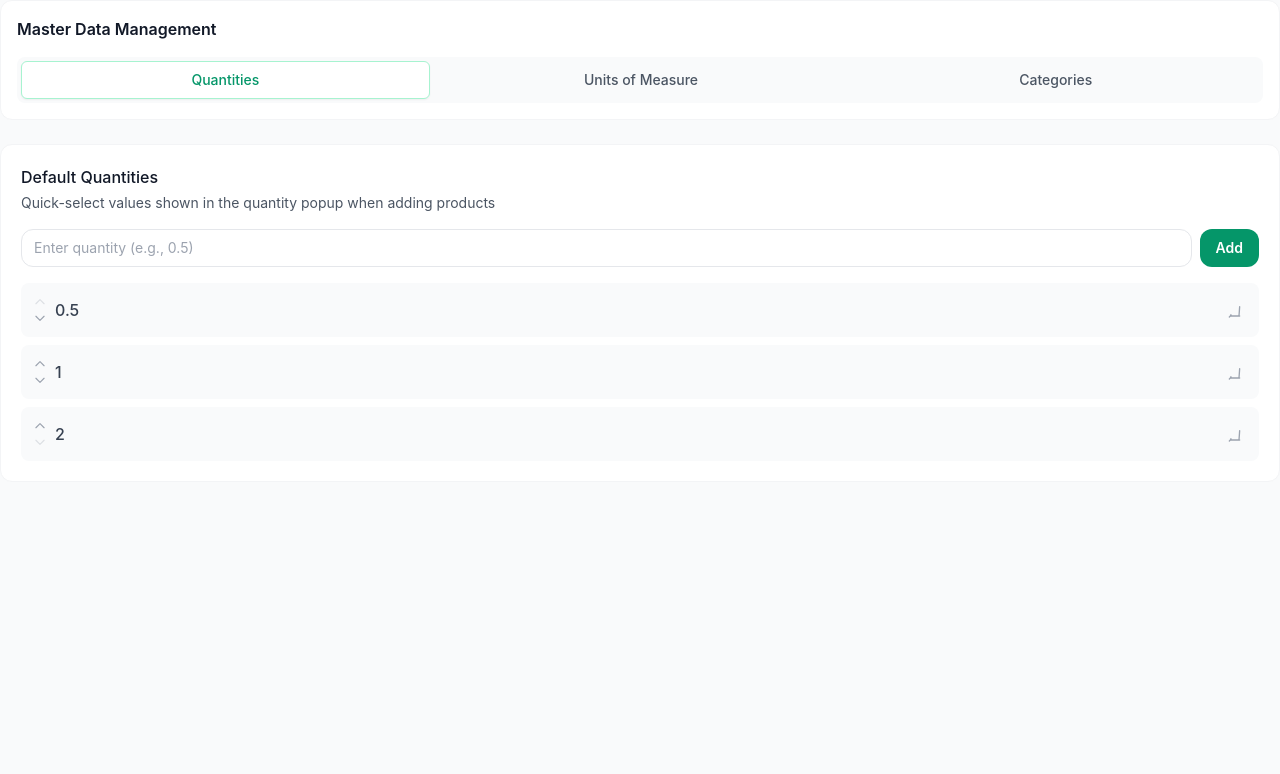
Test: MasterDataTab › Units of Measure Section › should validate unit abbreviation uniqueness
This screenshot has width=1280, height=774.
Click the button "Units of Measure" at (641, 80), box [438,61,844,99]
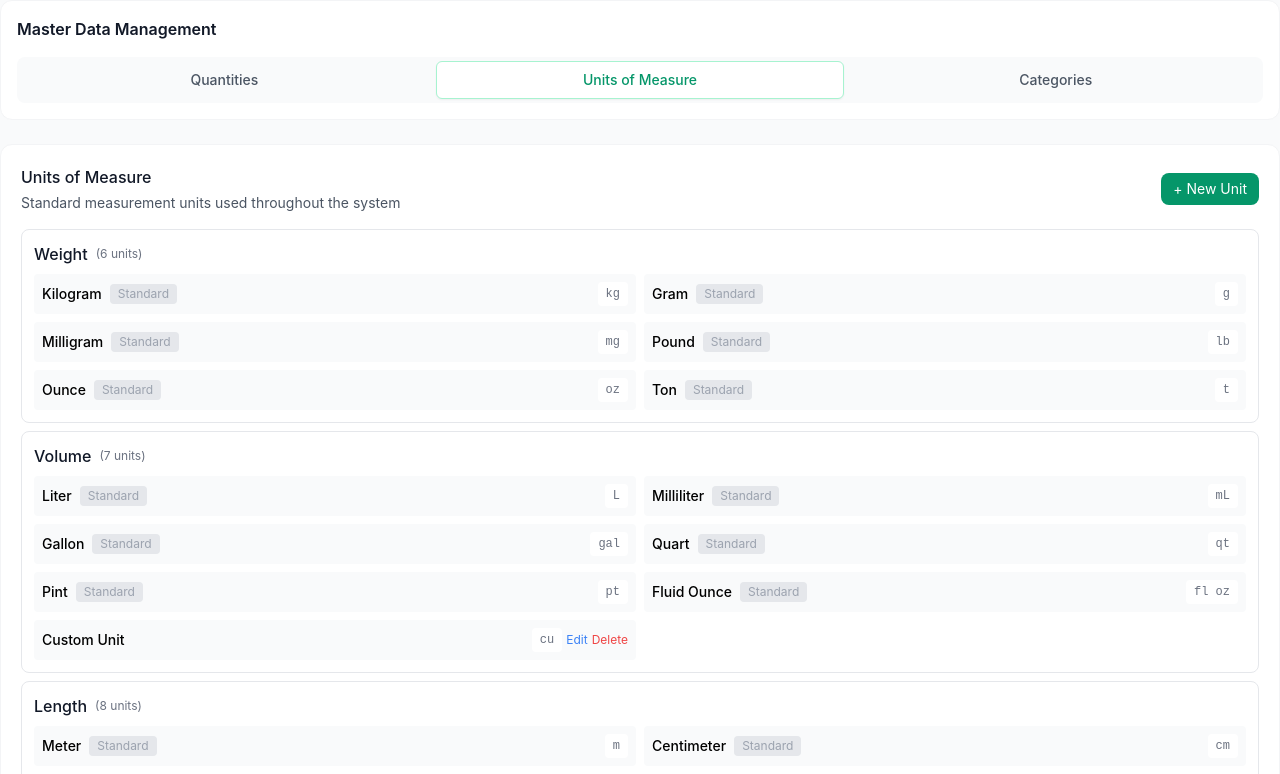
Click the button "+ New Unit" at (1210, 189), box [1161,173,1259,205]
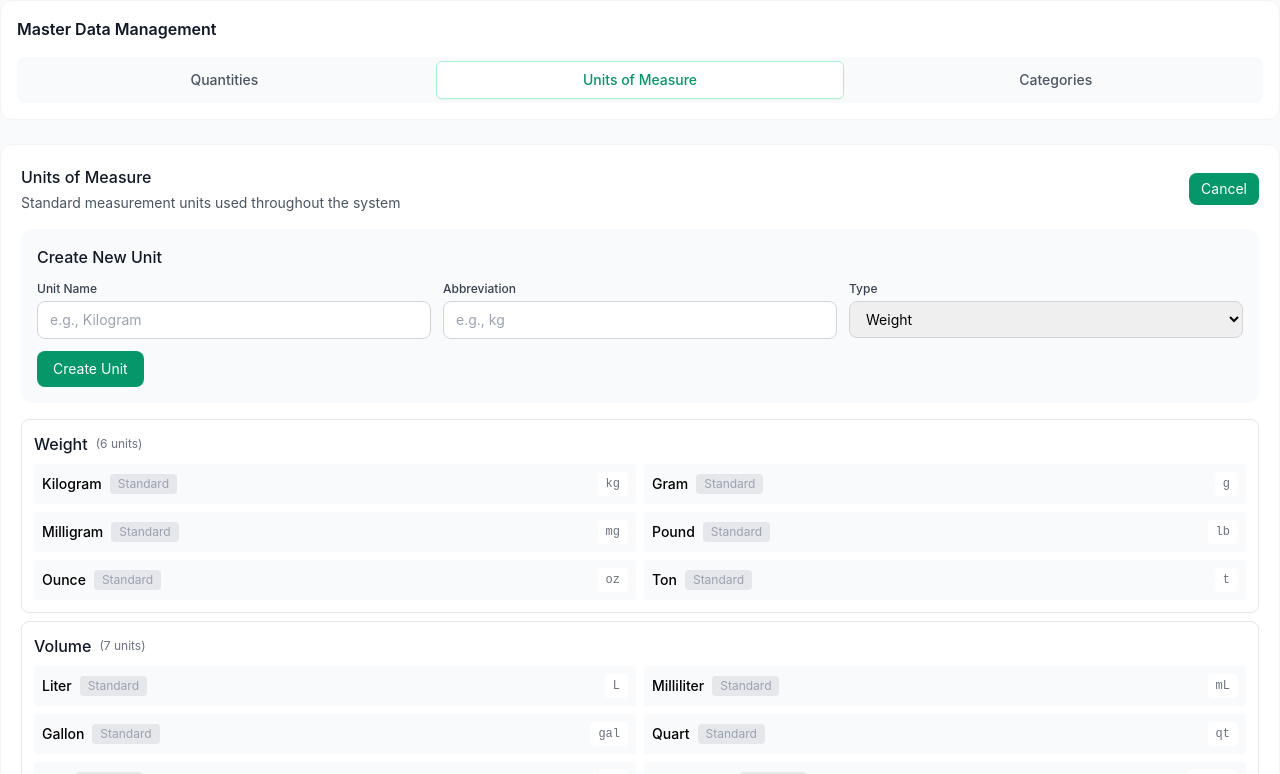
Type "Test Unit" into the field with placeholder "e.g., Kilogram" at (234, 320), box [37,301,431,339]
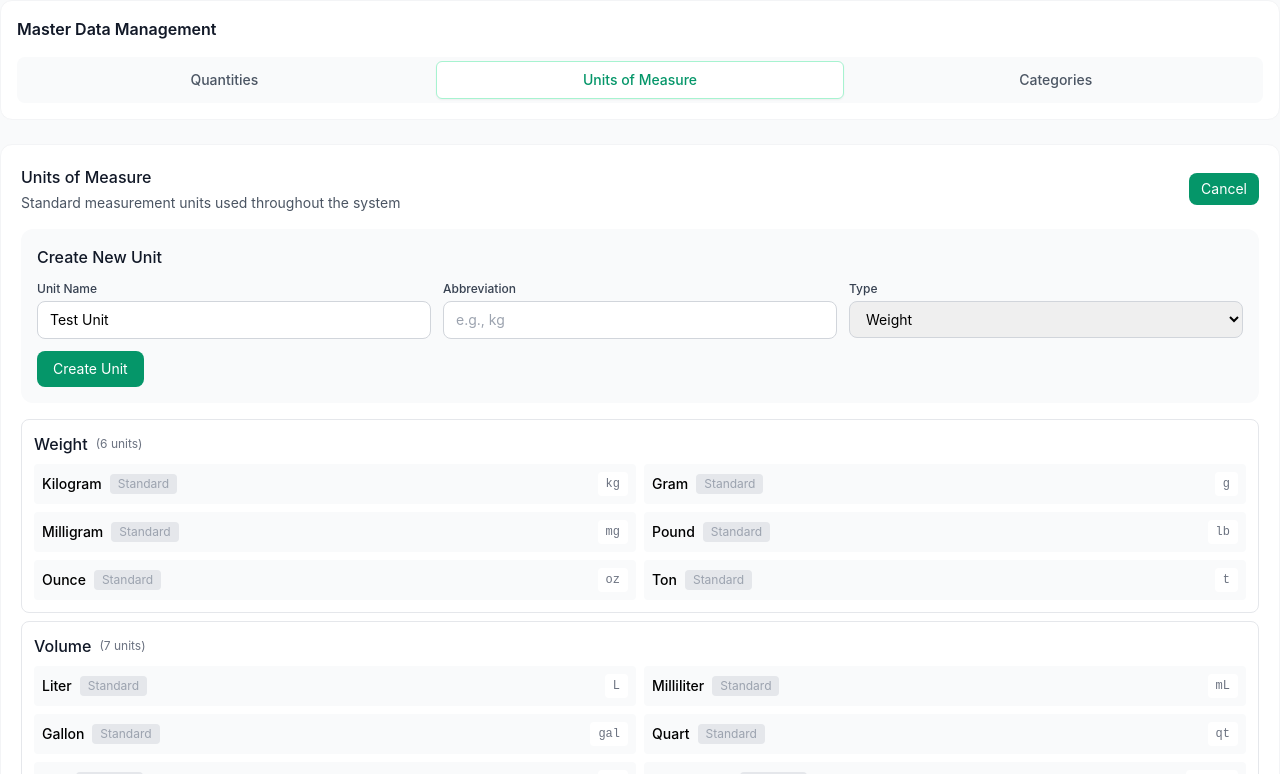
Type "kg" into the field with placeholder "e.g., kg" at (640, 320), box [443,301,837,339]
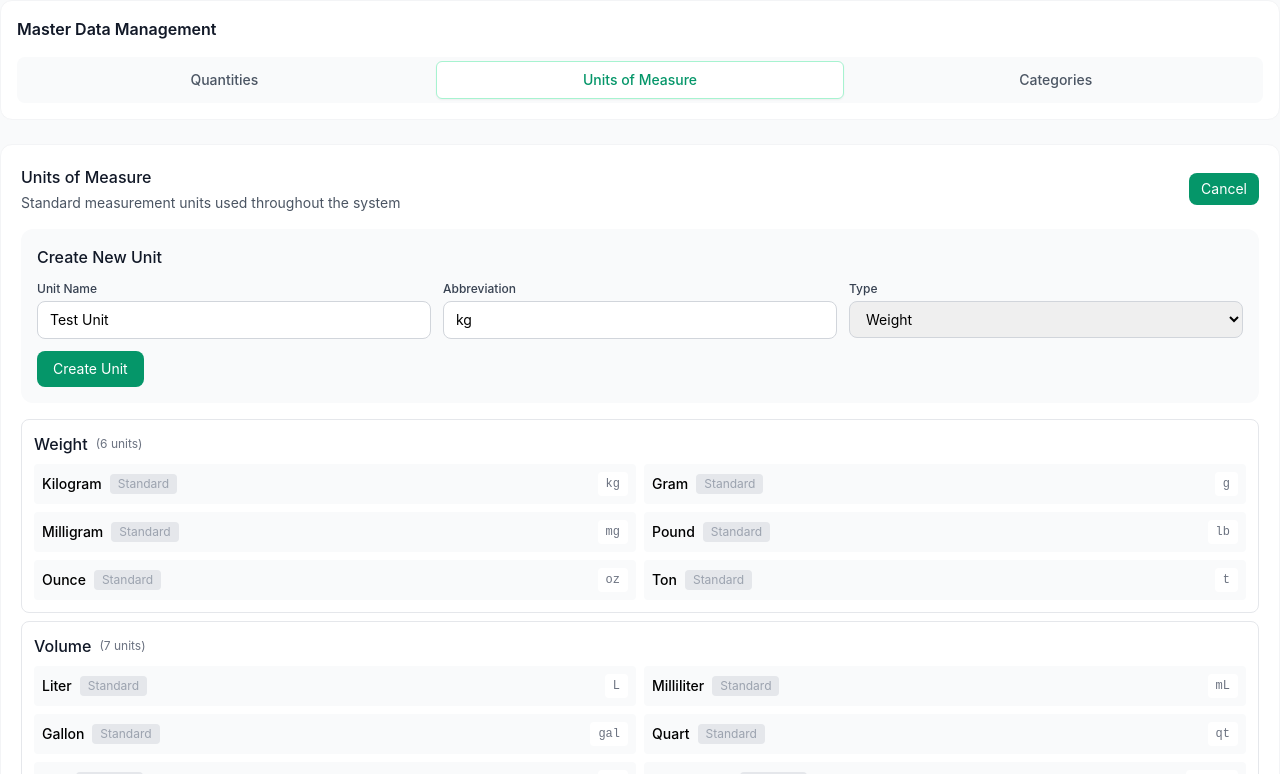
Click the button "Create Unit" at (90, 369), box [37,351,144,387]
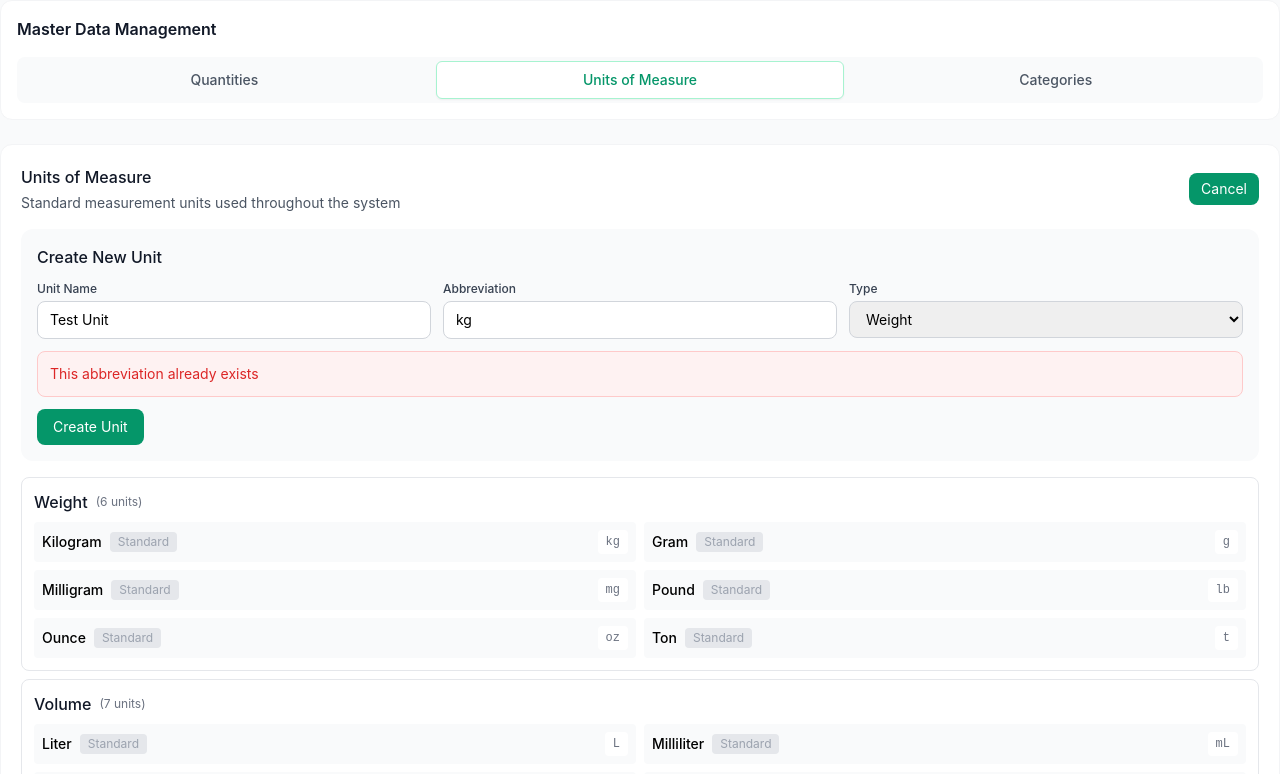
Expected: the text "This abbreviation already exists" is shown, [50,365,259,382]
